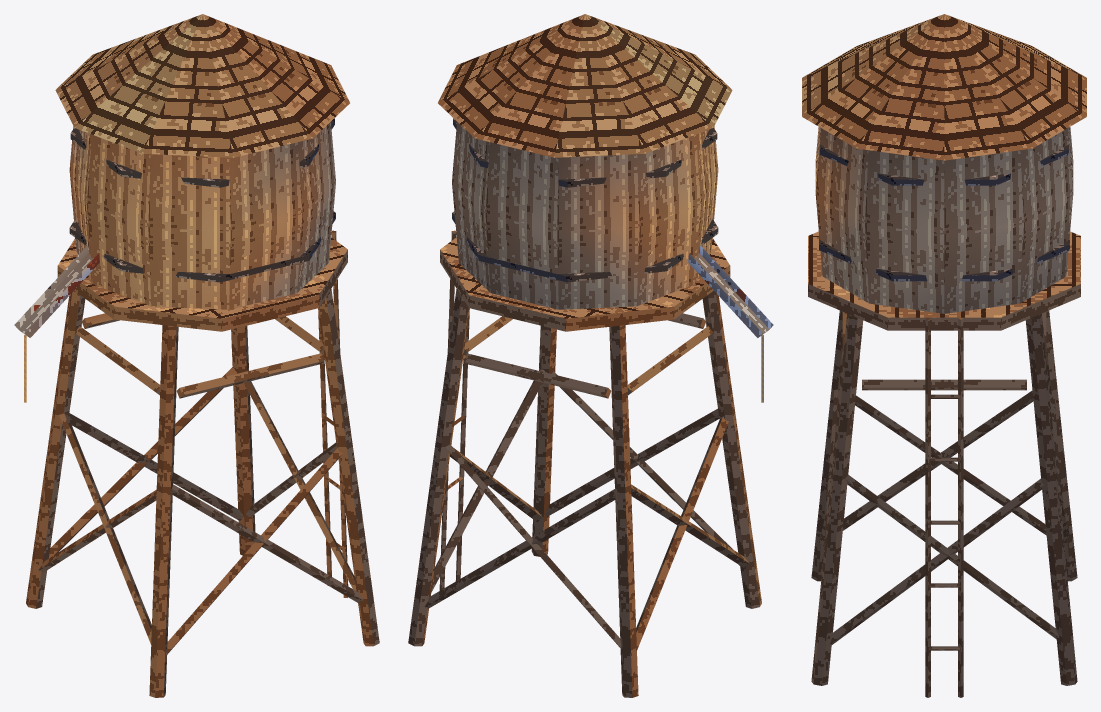
The model's file is wtown.water_tower.glb.
The picture shows the model from 3 angles, left to right: view 1: azimuth 30°, elevation 25°; view 2: azimuth 150°, elevation 25°; view 3: azimuth 270°, elevation 25°; orthographic projection.
Parts seen in each view (by area): view 1: kit_tank, kit_cap, kit_legs, kit_bracing, kit_bracing_x, kit_deck, kit_girts, kit_hoops, kit_spout, kit_ladder; view 2: kit_tank, kit_cap, kit_legs, kit_bracing_x, kit_bracing, kit_deck, kit_girts, kit_hoops, kit_spout, kit_ladder; view 3: kit_tank, kit_cap, kit_legs, kit_deck, kit_bracing_x, kit_bracing, kit_ladder, kit_hoops, kit_girts, kit_rungs.
Part boxes in pixels (x1,y1,x2,y2): kit_tank: [69, 122, 335, 309]; kit_cap: [55, 14, 349, 157]; kit_legs: [26, 289, 379, 697]; kit_bracing: [38, 381, 356, 654]; kit_bracing_x: [49, 367, 363, 644]; kit_deck: [57, 237, 347, 331]; kit_girts: [74, 313, 324, 398]; kit_hoops: [69, 118, 335, 282]; kit_spout: [14, 245, 99, 337]; kit_ladder: [318, 230, 348, 597]; kit_tank: [452, 122, 718, 309]; kit_cap: [438, 14, 732, 157]; kit_legs: [408, 289, 761, 697]; kit_bracing_x: [431, 368, 749, 648]; kit_bracing: [424, 371, 739, 649]; kit_deck: [440, 237, 730, 331]; kit_girts: [463, 313, 713, 398]; kit_hoops: [452, 118, 718, 282]; kit_spout: [688, 245, 773, 337]; kit_ladder: [439, 230, 469, 590]; kit_tank: [815, 127, 1073, 313]; kit_cap: [802, 14, 1086, 160]; kit_legs: [811, 310, 1077, 685]; kit_deck: [808, 231, 1080, 330]; kit_bracing_x: [824, 389, 1069, 639]; kit_bracing: [819, 393, 1063, 644]; kit_ladder: [925, 317, 963, 697]; kit_hoops: [819, 144, 1069, 281]; kit_girts: [842, 312, 1046, 390]; kit_rungs: [928, 394, 960, 650].
Bounding box in the file's own units: 5.69 × 10.37 × 4.34.
Materials: 7 (7 with a texture image).
